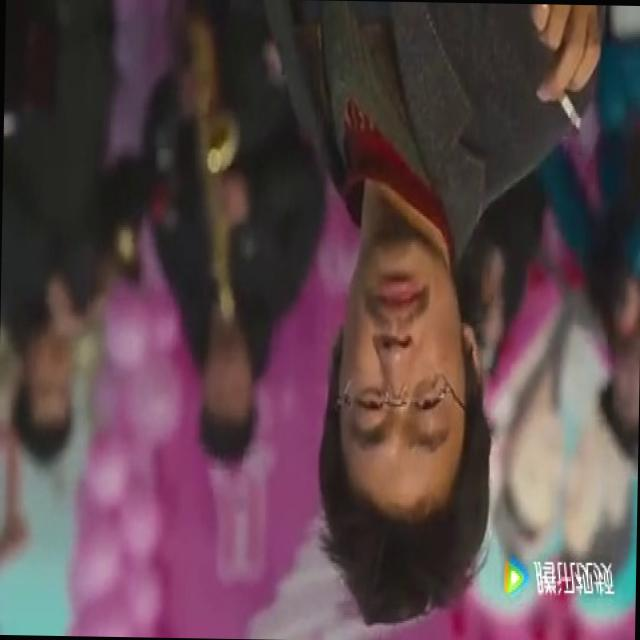smoke: (556, 86, 582, 137)
